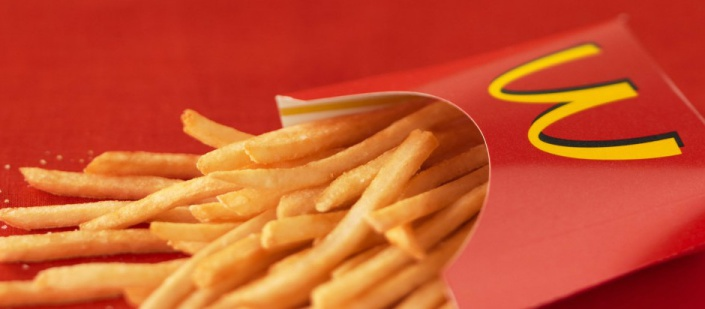mcdonalds: (485, 26, 693, 181)
